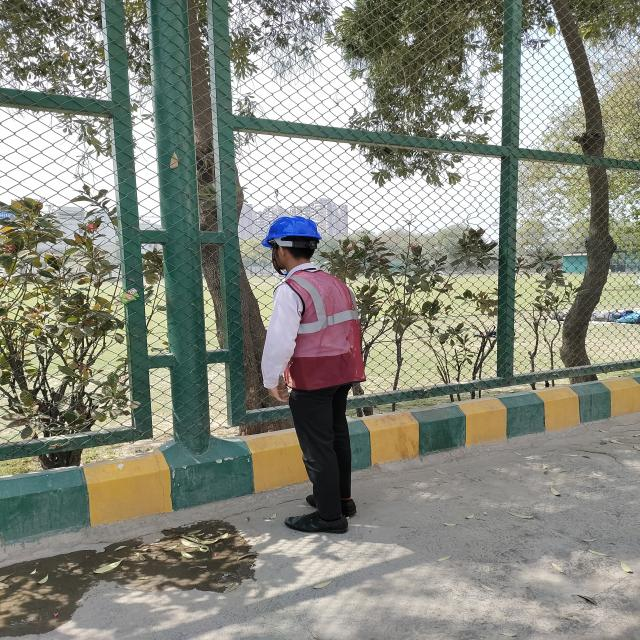safe: (262, 217, 366, 534)
